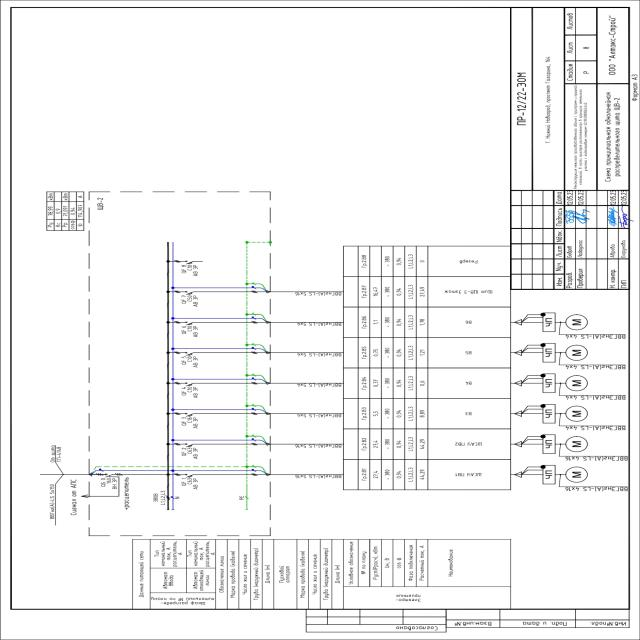-: (106, 477, 130, 511), (187, 446, 200, 461), (187, 477, 200, 491), (187, 385, 200, 399), (187, 416, 200, 430), (187, 264, 200, 278), (187, 325, 200, 339), (186, 294, 199, 308), (187, 355, 200, 369), (96, 197, 106, 210)
QF: (184, 350, 195, 356), (184, 381, 195, 387), (185, 412, 196, 418), (183, 442, 194, 448), (184, 259, 195, 265), (184, 472, 195, 478), (183, 321, 194, 327), (183, 290, 194, 296)
QS: (104, 472, 114, 478)
